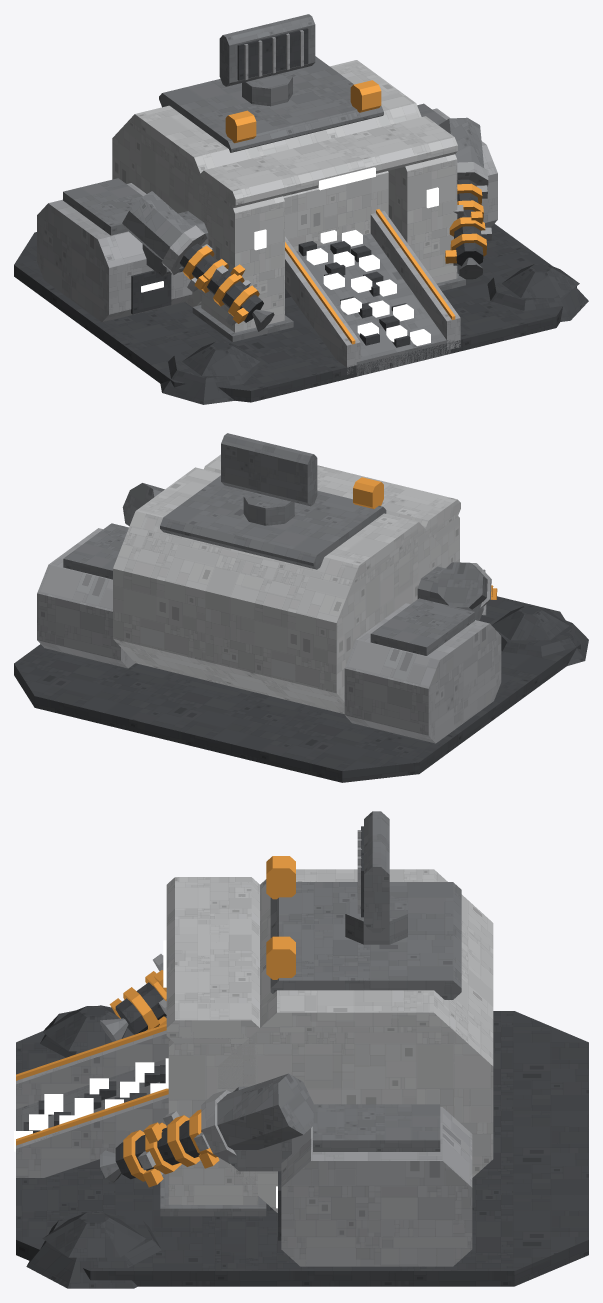
File: rig_auger_lod1.glb
3 views of the same model, one above another, from view 1: azimuth 30°, elevation 25°; view 2: azimuth 150°, elevation 25°; view 3: azimuth 270°, elevation 25° (orthographic). The views are drawn at different scales.
Visible parts, largest first — view 1: rig_auger_base_body.001, rig_auger_radar_body.001, rig_auger_ore_glow.001, rig_auger_base_trim.001, rig_auger_auger_l_body.001, rig_auger_auger_l_trim.001, rig_auger_auger_r_body.001, rig_auger_auger_r_trim.001, rig_auger_base_glow.001; view 2: rig_auger_base_body.001, rig_auger_radar_body.001, rig_auger_base_trim.001; view 3: rig_auger_base_body.001, rig_auger_base_trim.001, rig_auger_radar_body.001, rig_auger_auger_r_trim.001, rig_auger_ore_glow.001, rig_auger_auger_r_body.001, rig_auger_auger_l_body.001, rig_auger_auger_l_trim.001.
Boxes of the visible parts, left/top/right/bottom form: rig_auger_base_body.001: left=14, top=56, right=588, bottom=404; rig_auger_radar_body.001: left=219, top=14, right=315, bottom=86; rig_auger_ore_glow.001: left=306, top=230, right=430, bottom=345; rig_auger_base_trim.001: left=225, top=80, right=455, bottom=344; rig_auger_auger_l_body.001: left=180, top=243, right=274, bottom=331; rig_auger_auger_l_trim.001: left=183, top=245, right=259, bottom=323; rig_auger_auger_r_body.001: left=453, top=179, right=491, bottom=279; rig_auger_auger_r_trim.001: left=445, top=183, right=486, bottom=263; rig_auger_base_glow.001: left=141, top=167, right=438, bottom=292; rig_auger_base_body.001: left=14, top=454, right=588, bottom=782; rig_auger_radar_body.001: left=221, top=433, right=317, bottom=506; rig_auger_base_trim.001: left=353, top=477, right=383, bottom=508; rig_auger_base_body.001: left=16, top=869, right=588, bottom=1288; rig_auger_base_trim.001: left=16, top=856, right=295, bottom=1145; rig_auger_radar_body.001: left=357, top=811, right=389, bottom=932; rig_auger_auger_r_trim.001: left=123, top=1109, right=219, bottom=1187; rig_auger_ore_glow.001: left=14, top=1062, right=165, bottom=1151; rig_auger_auger_r_body.001: left=100, top=1111, right=209, bottom=1182; rig_auger_auger_l_body.001: left=100, top=954, right=166, bottom=1041; rig_auger_auger_l_trim.001: left=109, top=970, right=166, bottom=1030.
Size of the model in its own units: 2.98 by 1.65 by 2.71.
3 materials, 1 textured.
